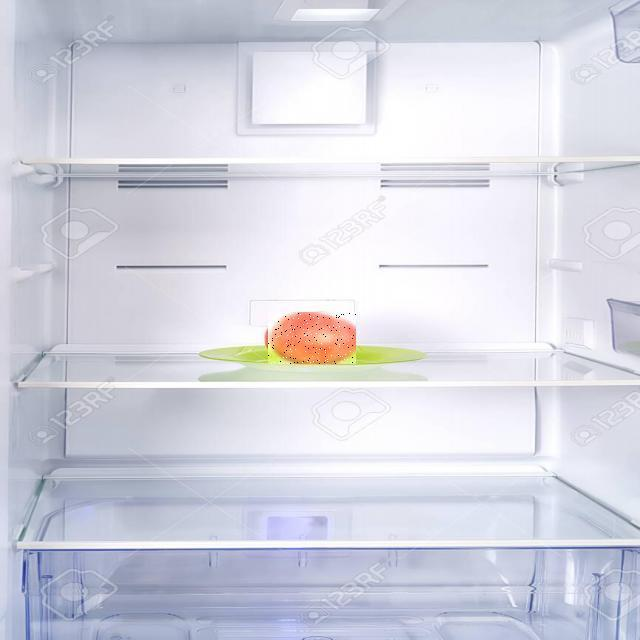apple: (90, 182, 446, 546)
